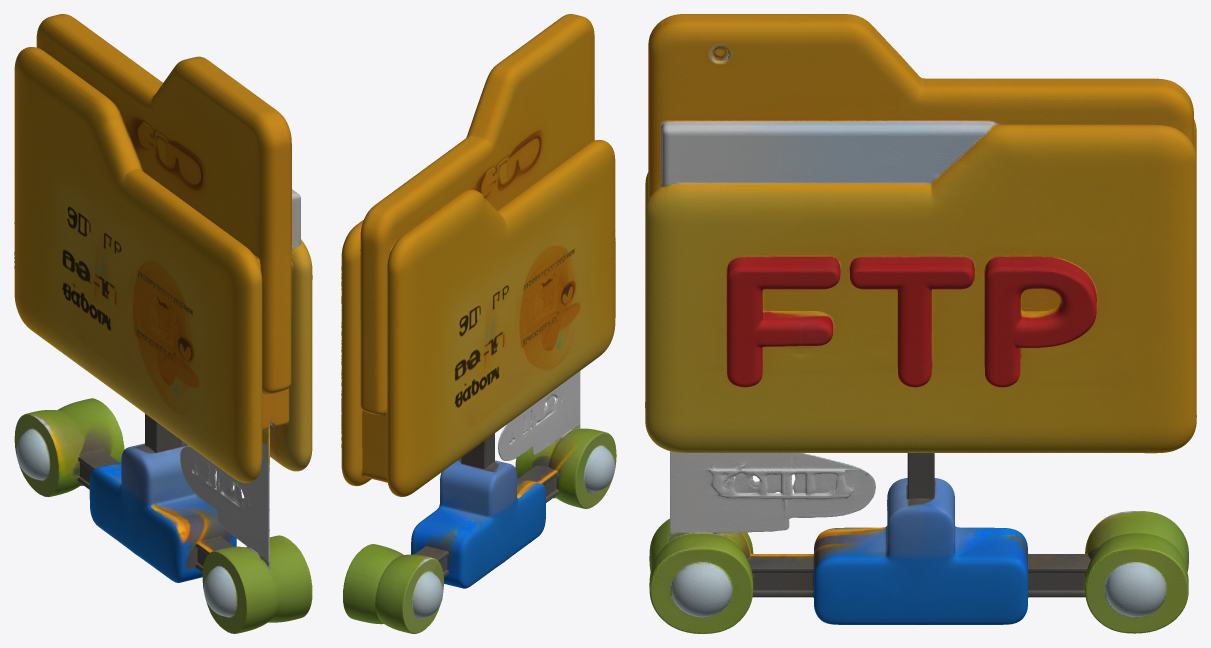
The model's file is ftp.glb.
3 views of the same model, side by side, from view 1: azimuth 30°, elevation 25°; view 2: azimuth 150°, elevation 25°; view 3: azimuth 270°, elevation 25° (orthographic). The views are drawn at different scales.
Visible parts, largest first — view 1: tripo_node_013baa89-cc72-47ce-bd9e-75d009bddd88; view 2: tripo_node_013baa89-cc72-47ce-bd9e-75d009bddd88; view 3: tripo_node_013baa89-cc72-47ce-bd9e-75d009bddd88.
Boxes of the visible parts, x1,y1,x2,y2 form: tripo_node_013baa89-cc72-47ce-bd9e-75d009bddd88: [14, 14, 312, 633]; tripo_node_013baa89-cc72-47ce-bd9e-75d009bddd88: [341, 14, 616, 633]; tripo_node_013baa89-cc72-47ce-bd9e-75d009bddd88: [645, 14, 1196, 633].
Size of the model in its own units: 0.2217 by 1 by 0.8344.
1 material, 1 textured.
